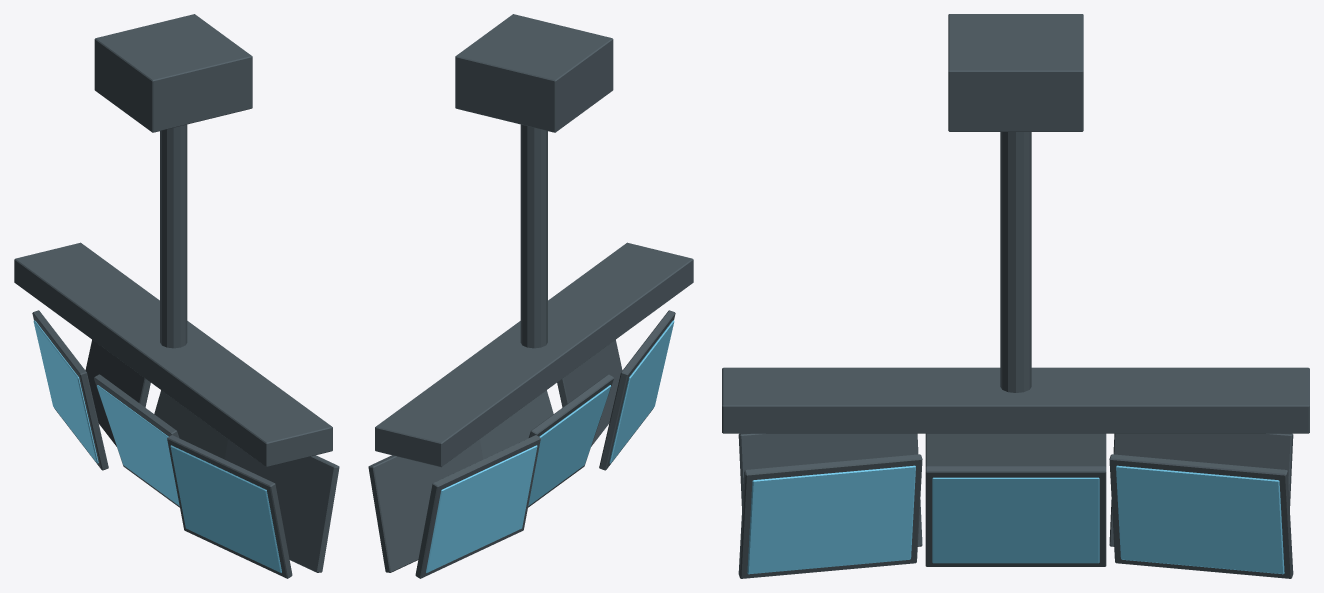
File: SM_Bridge_OverheadMonitor.fbx
3 renders of one model, left to right at view 1: azimuth 30°, elevation 25°; view 2: azimuth 150°, elevation 25°; view 3: azimuth 270°, elevation 25°, orthographic. The views are drawn at different scales.
Visible parts, largest first — view 1: SM_Bridge_OverheadMonitor; view 2: SM_Bridge_OverheadMonitor; view 3: SM_Bridge_OverheadMonitor.
Part boxes in pixels (x1,y1,x2,y2): SM_Bridge_OverheadMonitor: [14, 14, 339, 578]; SM_Bridge_OverheadMonitor: [368, 14, 693, 578]; SM_Bridge_OverheadMonitor: [722, 14, 1309, 578].
Bounding box in the file's own units: 60 × 254 × 260.
